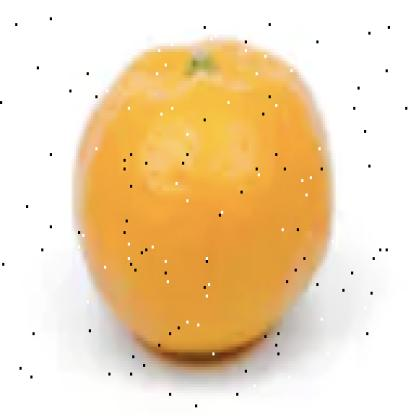fresh: (78, 39, 333, 359)
